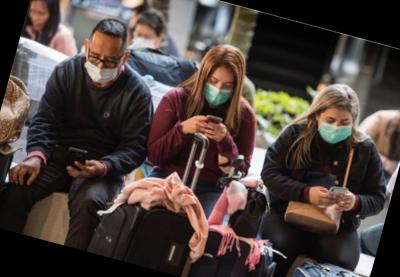with_mask: (80, 48, 125, 91), (315, 111, 356, 149), (200, 73, 237, 113), (130, 28, 159, 52)
without_mask: (26, 5, 51, 33)
